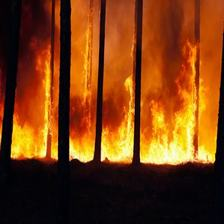fire: (9, 34, 217, 169)
